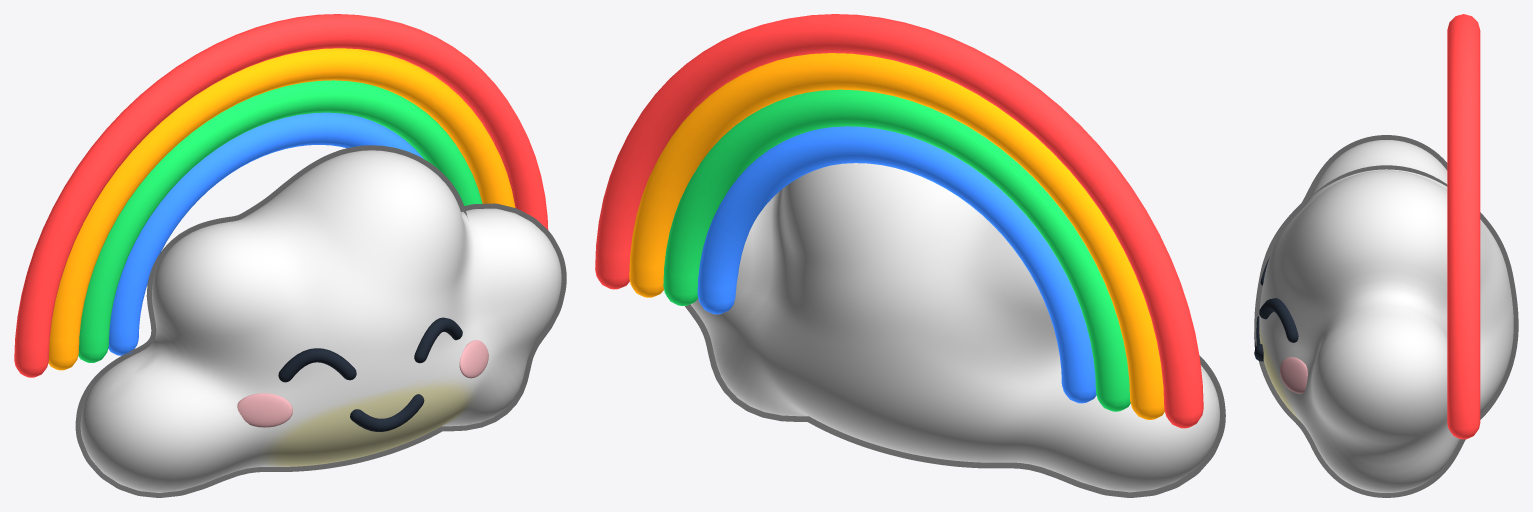
The model's file is rainbow.glb.
3 views of the same model, side by side, from view 1: azimuth 30°, elevation 25°; view 2: azimuth 150°, elevation 25°; view 3: azimuth 270°, elevation 25° (orthographic). The views are drawn at different scales.
Visible parts, largest first — view 1: body, rainbow, rainbow.001, rainbow.002, rainbow.003, cheek, eye, mouth, eye.001, cheek.001; view 2: body, rainbow, rainbow.001, rainbow.002, rainbow.003; view 3: body, rainbow, cheek.001, eye.001.
Boxes of the visible parts, x1,y1,x2,y2 form: body: [75, 145, 566, 497]; rainbow: [14, 14, 548, 377]; rainbow.001: [48, 48, 515, 370]; rainbow.002: [78, 80, 482, 362]; rainbow.003: [108, 112, 423, 355]; cheek: [237, 393, 292, 427]; eye: [278, 348, 356, 382]; mouth: [350, 394, 424, 431]; eye.001: [414, 317, 462, 363]; cheek.001: [459, 340, 488, 378]; body: [685, 163, 1225, 497]; rainbow: [595, 14, 1203, 428]; rainbow.001: [629, 53, 1164, 419]; rainbow.002: [663, 89, 1130, 411]; rainbow.003: [697, 126, 1096, 403]; body: [1254, 135, 1518, 497]; rainbow: [1447, 14, 1480, 439]; cheek.001: [1280, 357, 1307, 393]; eye.001: [1259, 298, 1298, 342].
Bounding box in the file's own units: 2.65 × 1.93 × 1.2.
